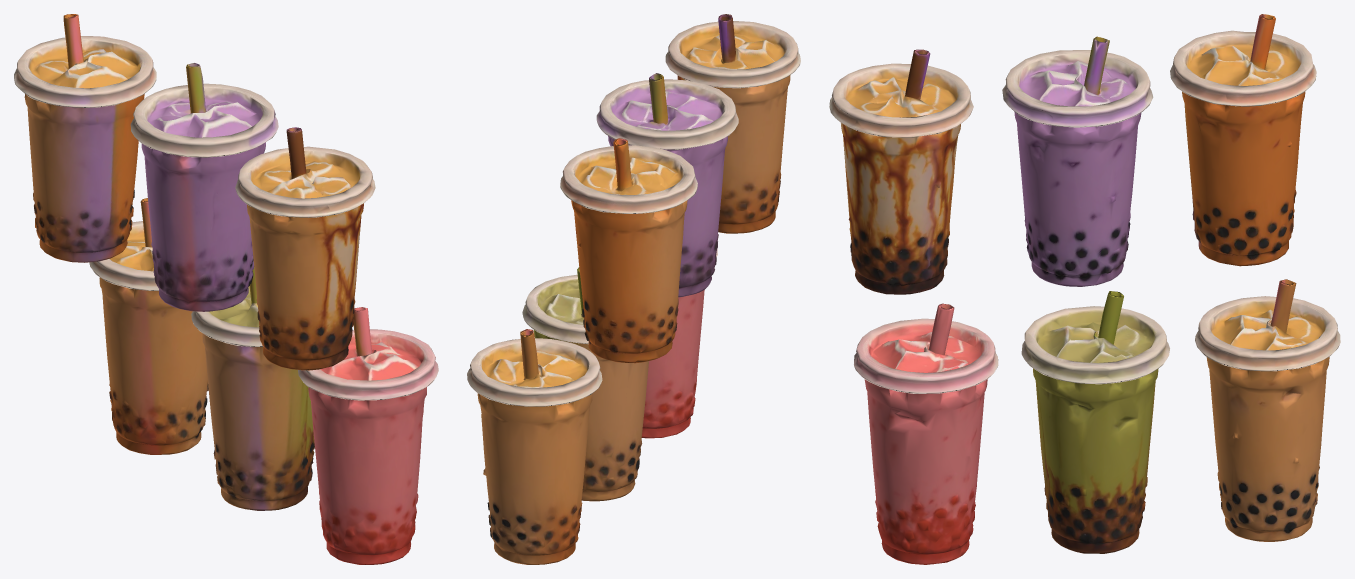
File: cup.glb
3 renders of one model, left to right at view 1: azimuth 30°, elevation 25°; view 2: azimuth 150°, elevation 25°; view 3: azimuth 270°, elevation 25°, orthographic. The views are drawn at different scales.
Visible parts, largest first — view 1: Object_4; view 2: Object_4; view 3: Object_4.
Part boxes in pixels (x1,y1,x2,y2): Object_4: [14, 14, 438, 564]; Object_4: [467, 14, 800, 564]; Object_4: [829, 14, 1340, 564].
Size of the model in its own units: 0.5934 by 1 by 0.9946.
Materials: 1 (1 with a texture image).
